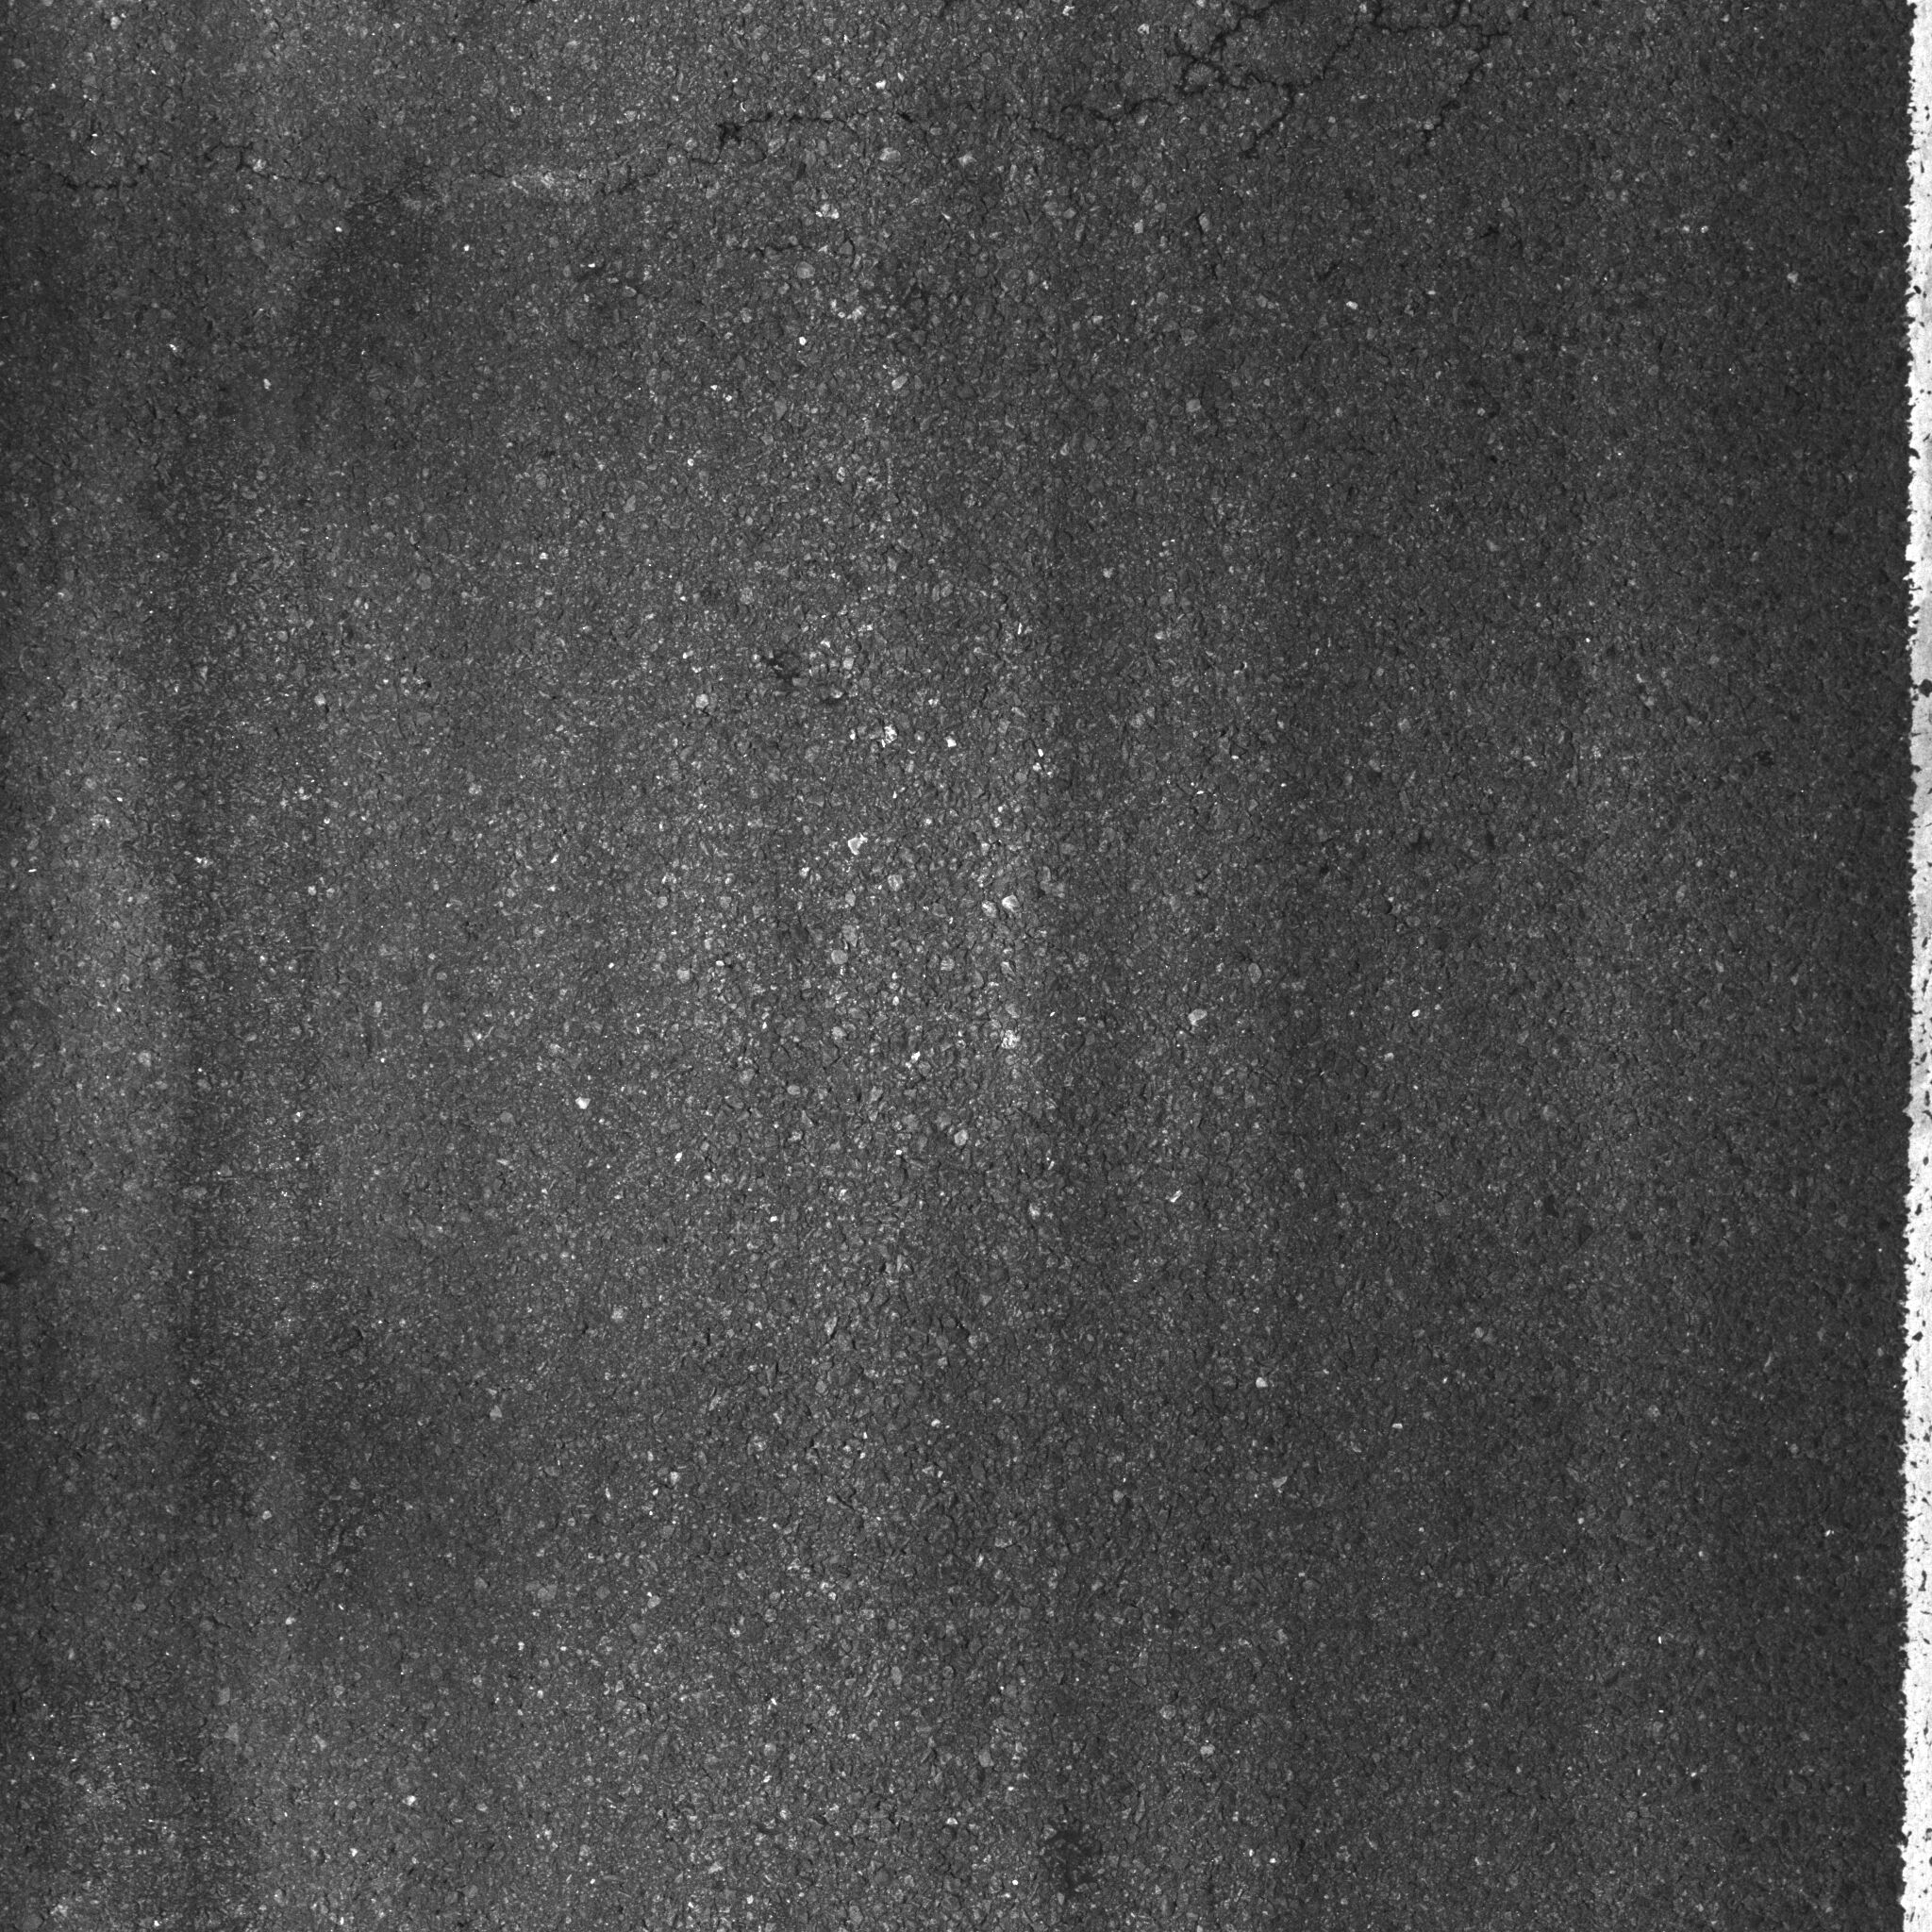transeverse: (5, 2, 1560, 219)
